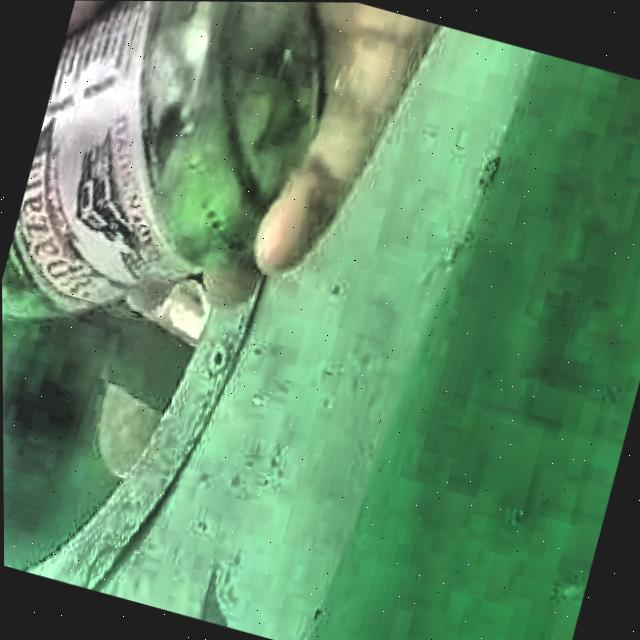glass: (2, 1, 319, 318)
